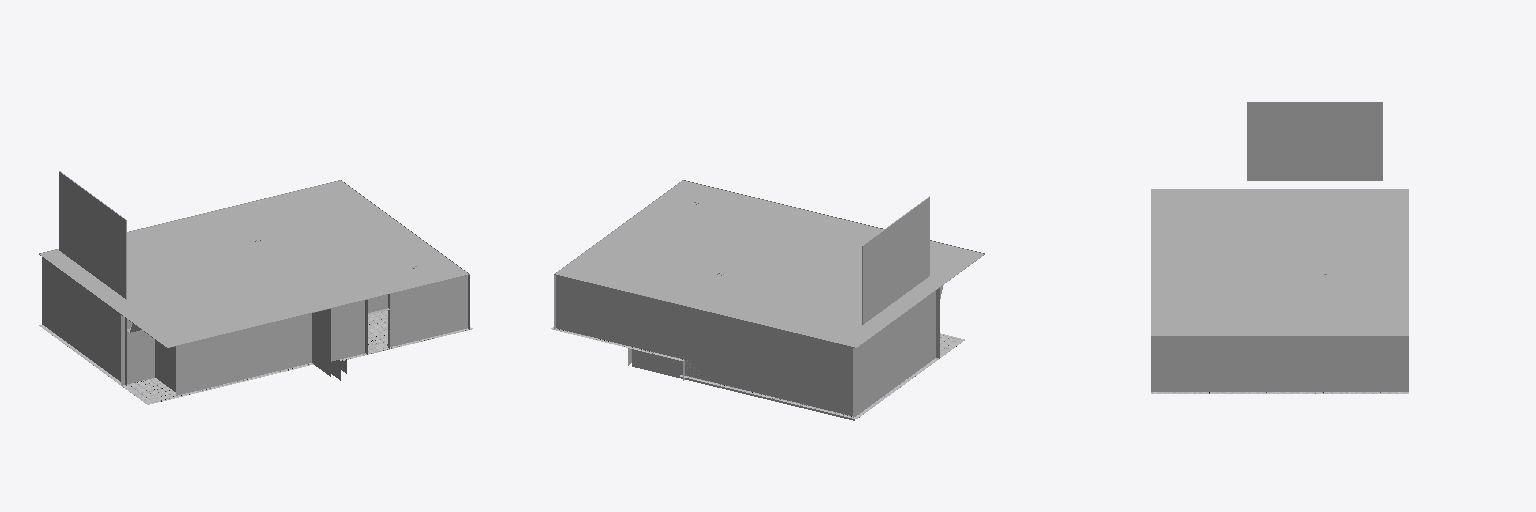
3 views of the same model, side by side, from view 1: azimuth 30°, elevation 25°; view 2: azimuth 150°, elevation 25°; view 3: azimuth 270°, elevation 25° (orthographic).
Size of the model in its own units: 2592 by 1344 by 1888.
12 materials, 1 textured.